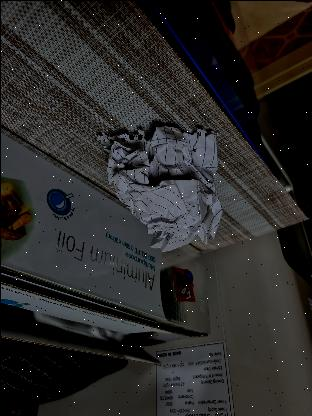Others: (101, 124, 221, 254)
